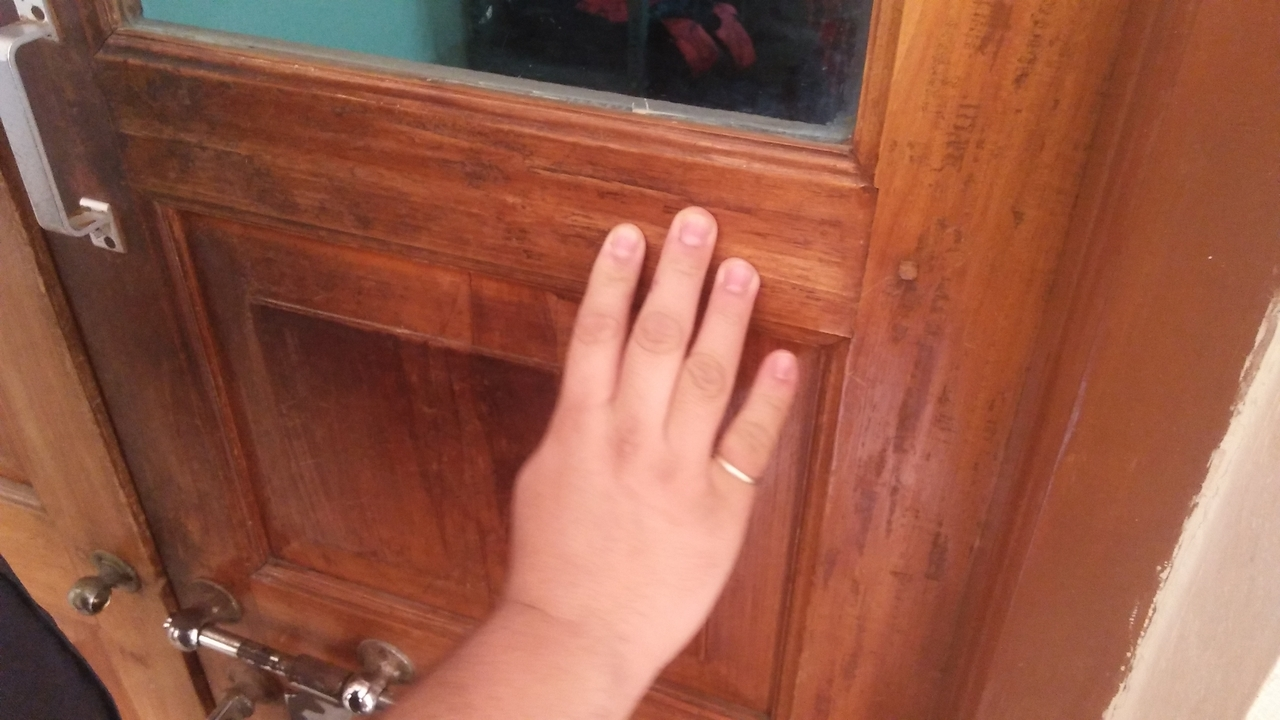fingertip: (586, 212, 656, 274), (660, 198, 726, 262), (748, 344, 810, 394), (710, 252, 762, 300)
